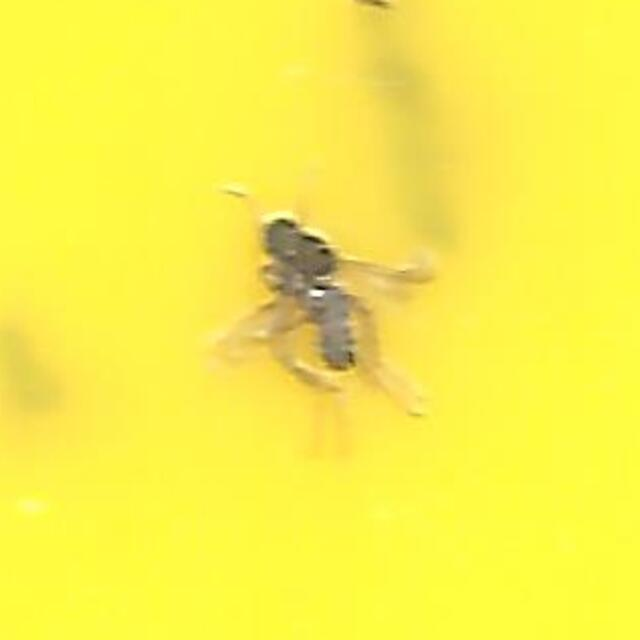Brachycera: (202, 213, 438, 427)
